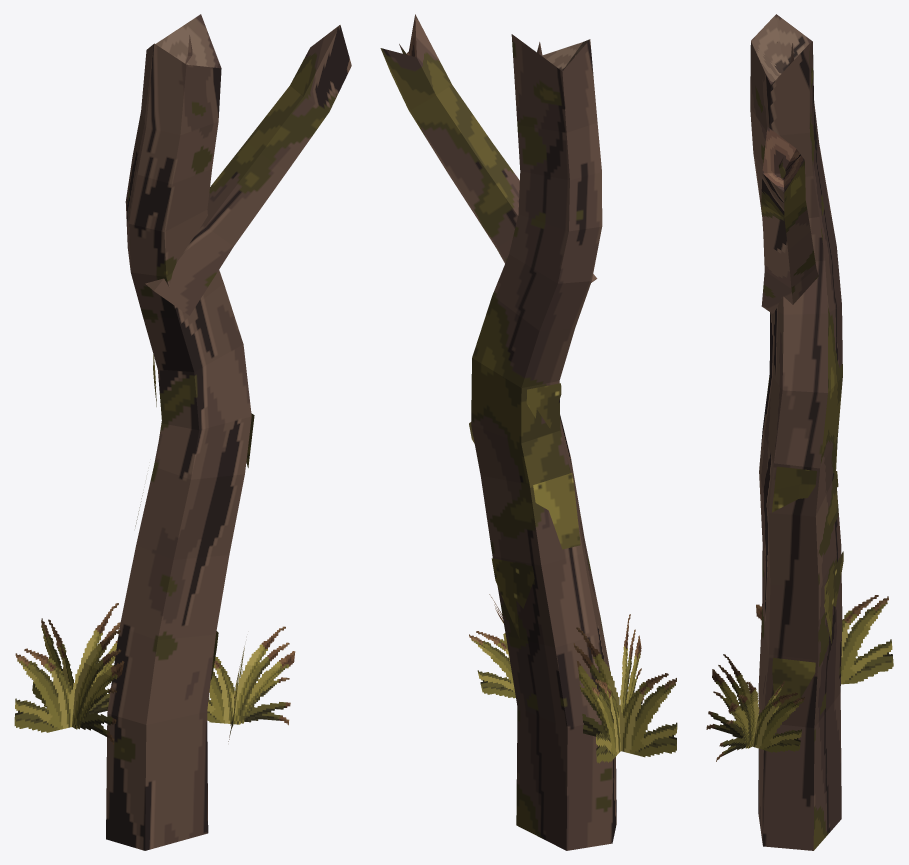
Rendered from SM_SW15_StakeBare.fbx.
3 renders of one model, left to right at view 1: azimuth 30°, elevation 25°; view 2: azimuth 150°, elevation 25°; view 3: azimuth 270°, elevation 25°, orthographic. The views are drawn at different scales.
Parts seen in each view (by area): view 1: SW15a_Bark, SW15a_Plants, SW15a_Props; view 2: SW15a_Bark, SW15a_Plants, SW15a_Moss, SW15a_Props; view 3: SW15a_Bark, SW15a_Plants, SW15a_Props, SW15a_Moss.
Part boxes in pixels (x1=…): SW15a_Bark: x1=106, y1=25, x2=351, y2=850; SW15a_Plants: x1=14, y1=603, x2=295, y2=744; SW15a_Props: x1=155, y1=14, x2=221, y2=68; SW15a_Bark: x1=380, y1=14, x2=616, y2=850; SW15a_Plants: x1=469, y1=594, x2=677, y2=763; SW15a_Moss: x1=469, y1=383, x2=580, y2=650; SW15a_Props: x1=407, y1=14, x2=589, y2=71; SW15a_Bark: x1=750, y1=41, x2=842, y2=850; SW15a_Plants: x1=706, y1=595, x2=893, y2=761; SW15a_Props: x1=751, y1=14, x2=812, y2=192; SW15a_Moss: x1=772, y1=466, x2=843, y2=718.
Bounding box in the file's own units: 1.06 × 2.59 × 0.5451.
